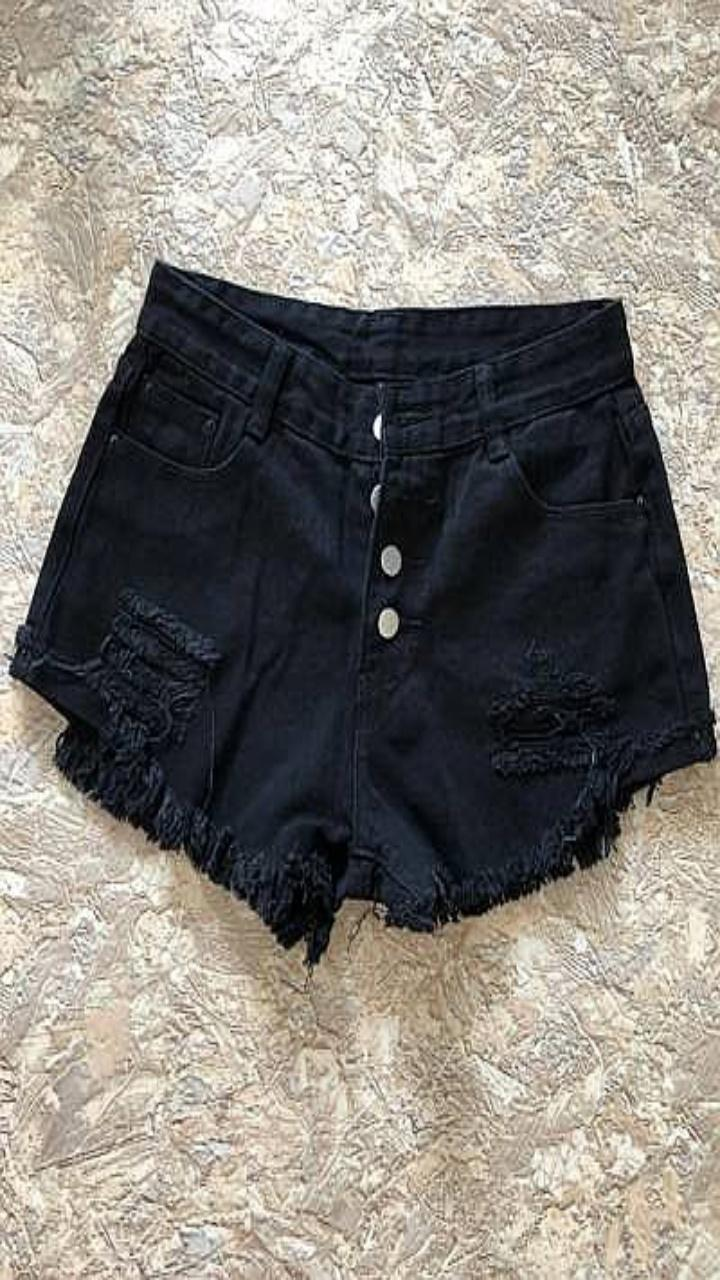Shorts: (11, 259, 716, 967)
